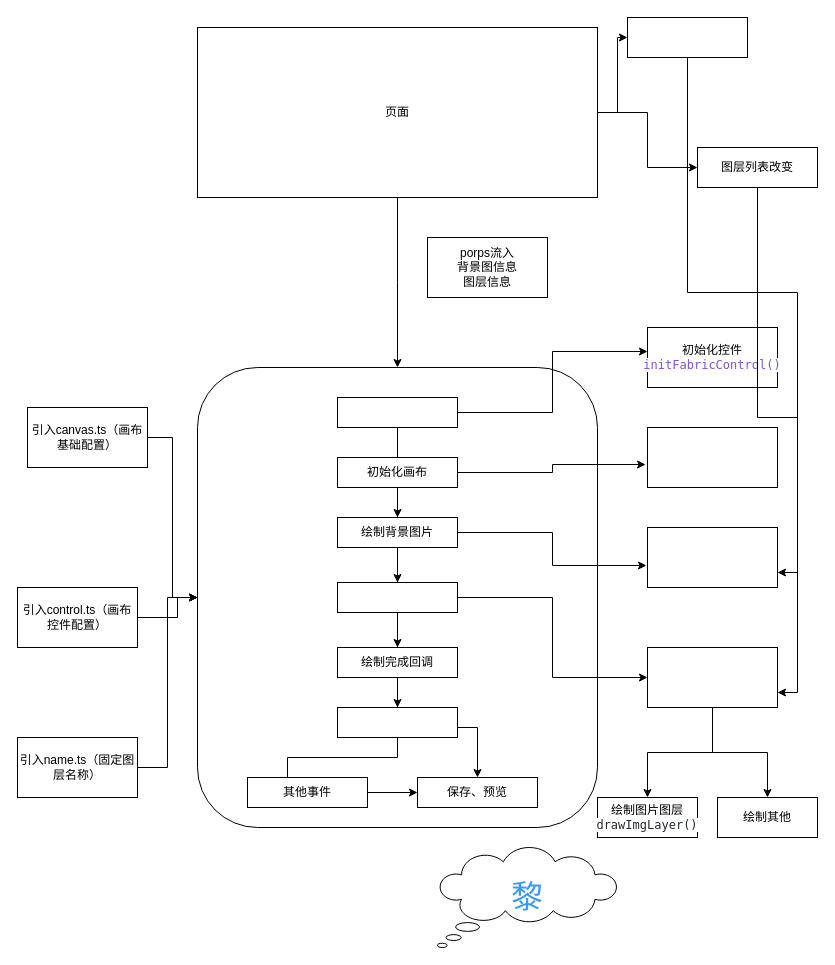
This 835x965 diagram has some shape labels left out. Here are the shapes that lost their labels. From the top down, the box of each, then its label:
(626, 16, 748, 58): 背景改变
(336, 396, 458, 428): 初始化控件
(646, 426, 778, 488): 初始化画布 initCanvas()
(646, 526, 778, 588): 绘制背景 drawBackground()
(336, 582, 458, 612): 绘制图层列表
(646, 646, 778, 708): 绘制多个图层 drawLayer ()
(336, 706, 458, 738): 绑定画布交互事件
